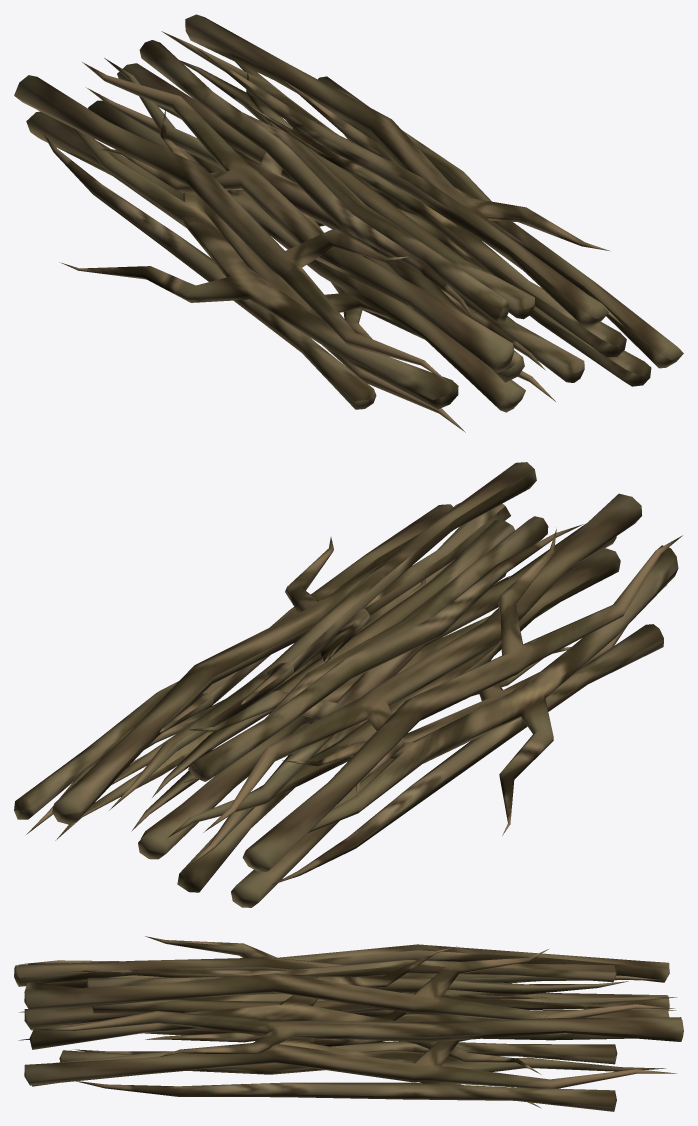
The model's file is Pile03.fbx.
3 views of the same model, one above another, from view 1: azimuth 30°, elevation 25°; view 2: azimuth 150°, elevation 25°; view 3: azimuth 270°, elevation 25° (orthographic). The views are drawn at different scales.
Visible parts, largest first — view 1: Pile03_LOD0; view 2: Pile03_LOD0; view 3: Pile03_LOD0.
Part boxes in pixels (<box>): Pile03_LOD0: <box>14,14,683,432</box>; Pile03_LOD0: <box>14,462,682,907</box>; Pile03_LOD0: <box>14,936,683,1111</box>.
Size of what is drawn, in the model's own units: 28.32 by 9.15 by 56.35.
